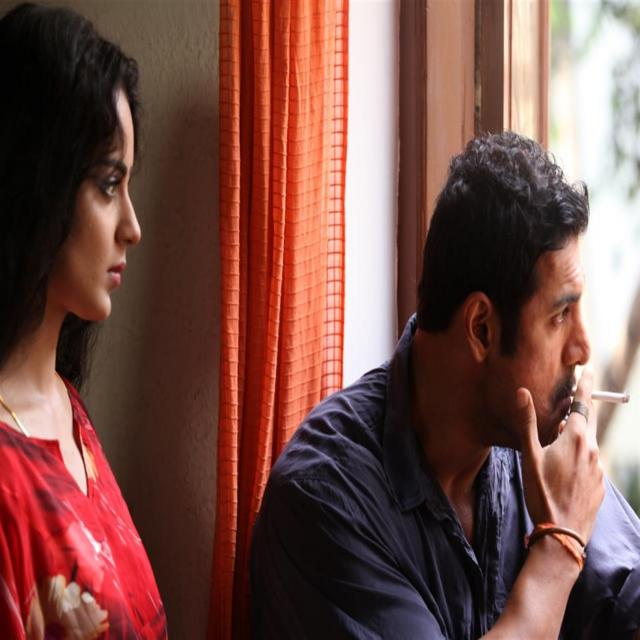cigarette: (587, 384, 630, 428)
